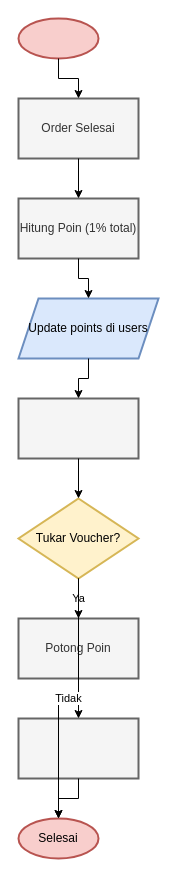
The diagram is 176 pixels wide and 876 high, and some of its shapes have lost their labels. Each missing label, with the centre of its shape:
"Buka Loyalty Screen" goes at (x=78, y=428).
"Gunakan Voucher" goes at (x=78, y=748).
"Mulai" goes at (x=58, y=38).
